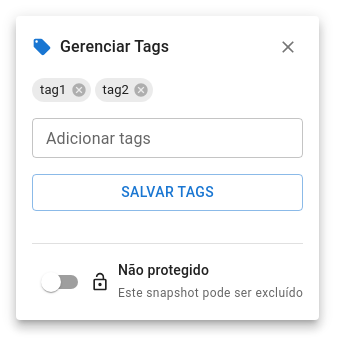
Test: SnapshotTagsPopover › Edge Cases › removes a tag when delete icon clicked
// Click first delete icon
Click the 1st icon with test id "CancelIcon".
click(78, 90)  # box top-left (70, 82), bottom-right (86, 98)
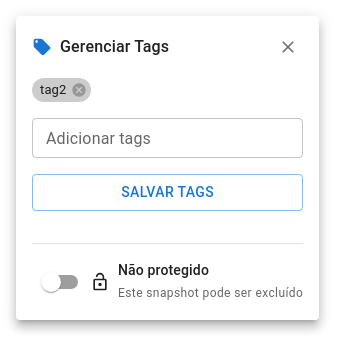
Expected: the button "tag1" is gone
Expected: the text "tag2" is shown, top-left (40, 82), bottom-right (66, 97)
